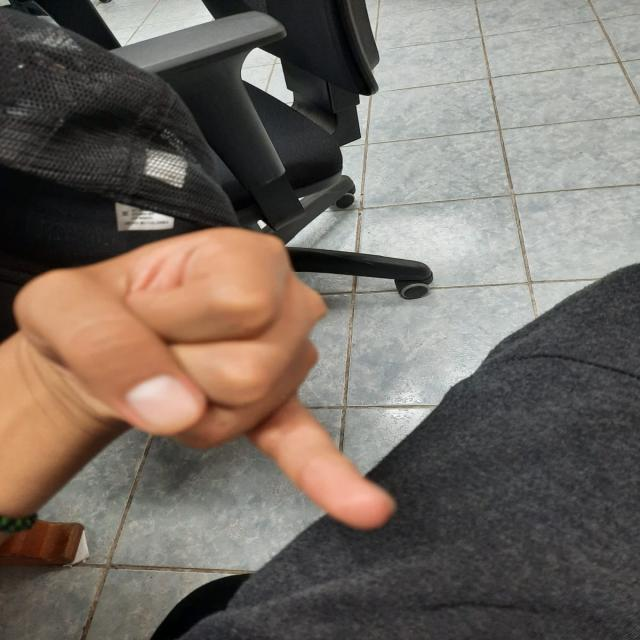Z: (0, 197, 419, 585)
